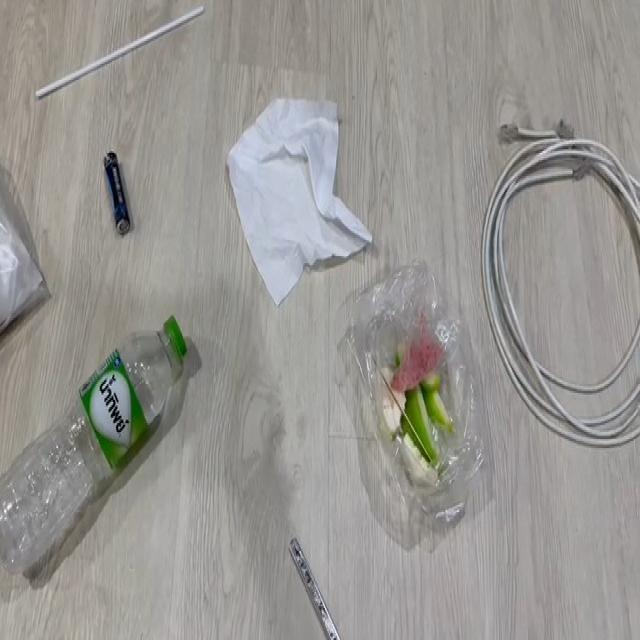Anorganik: (15, 352, 214, 552), (234, 89, 372, 312), (0, 168, 61, 368), (57, 23, 218, 88), (286, 545, 348, 639)
B3: (484, 139, 640, 441), (349, 290, 495, 529), (105, 141, 139, 245)
